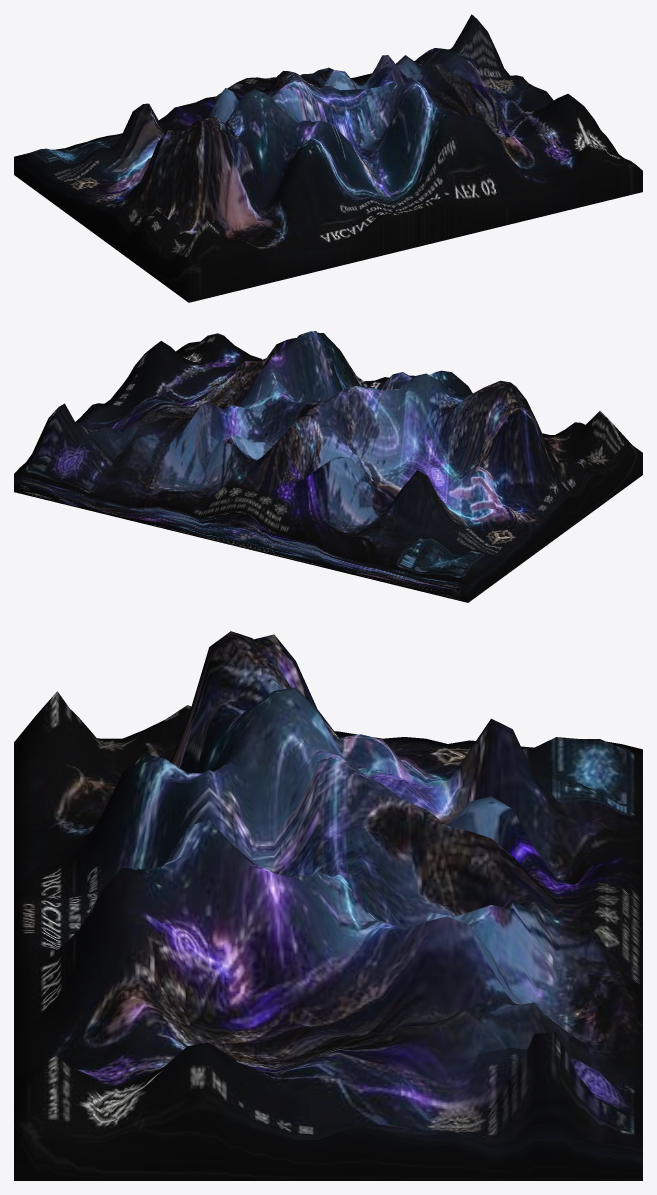
File: CAREER_11_VFX_03_Tower.glb
3 views of the same model, one above another, from view 1: azimuth 30°, elevation 25°; view 2: azimuth 150°, elevation 25°; view 3: azimuth 270°, elevation 25° (orthographic). The views are drawn at different scales.
Parts seen in each view (by area): view 1: CAREER_11_VFX_03_Tower; view 2: CAREER_11_VFX_03_Tower; view 3: CAREER_11_VFX_03_Tower.
Part boxes in pixels (<box>): CAREER_11_VFX_03_Tower: <box>14,14,642,302</box>; CAREER_11_VFX_03_Tower: <box>14,331,642,602</box>; CAREER_11_VFX_03_Tower: <box>14,631,642,1180</box>.
Size of the model in its own units: 2 by 0.51 by 1.33.
1 material, 1 textured.
